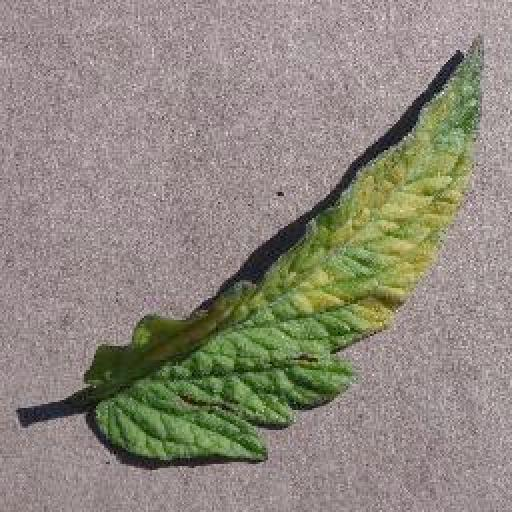disease_tomato: (83, 29, 487, 467)
